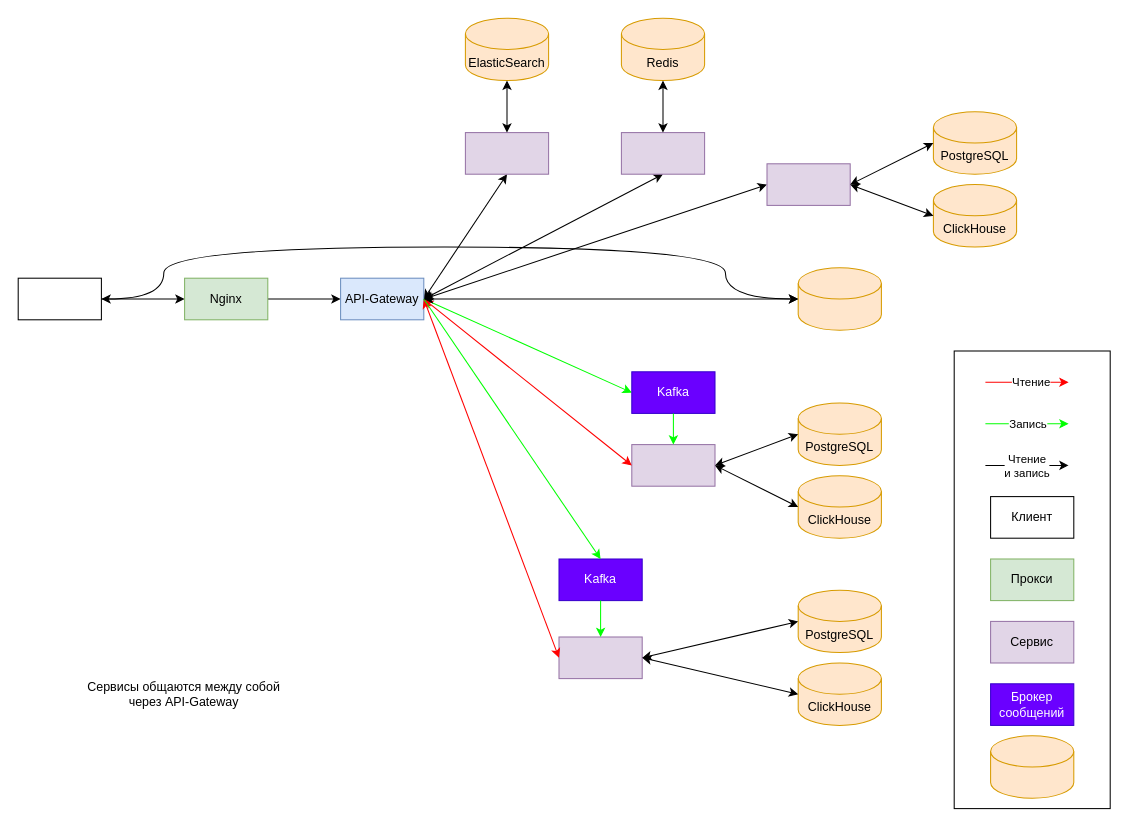
Image size: 1128x827. Some labels were removed from this diagram. The box of each missing label's shape, as (x1, y1, x2, y2) in pixels:
Article: (631, 444, 715, 486)
Authorization: (620, 132, 705, 174)
CEPH: (797, 267, 881, 330)
Client: (17, 277, 101, 320)
Comment: (558, 636, 642, 679)
Search: (464, 132, 549, 174)
User: (766, 163, 850, 205)
БД: (990, 735, 1074, 798)
